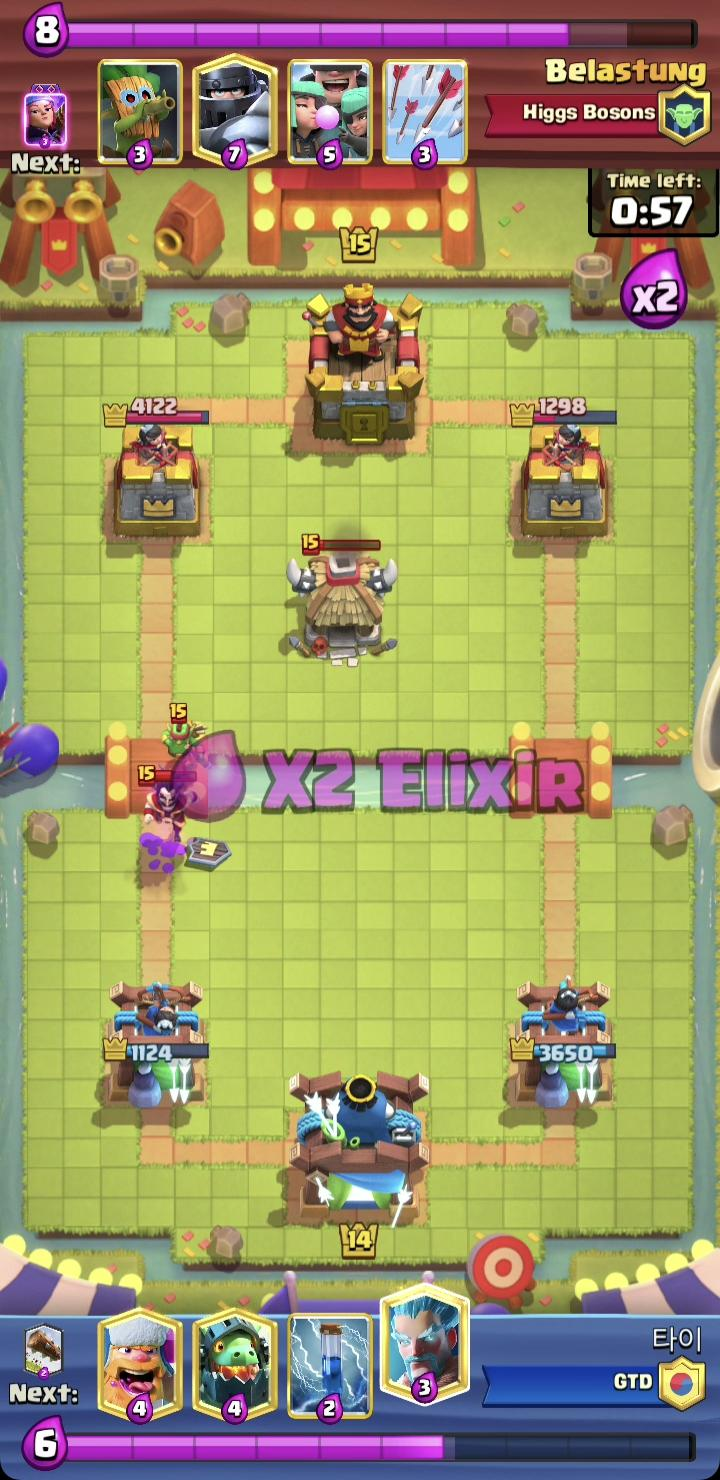enemy_electro_wizard: (137, 763, 202, 844)
enemy_goblin_hut: (284, 533, 399, 669)
enemy_spear_goblin: (161, 703, 209, 775)
